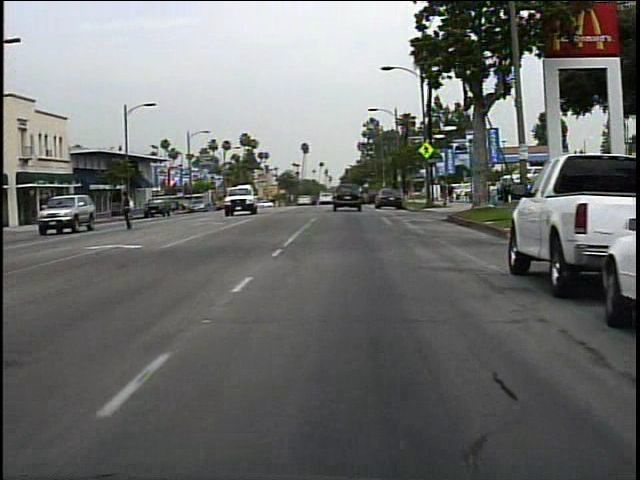person: (118, 187, 143, 234), (487, 180, 500, 211)
